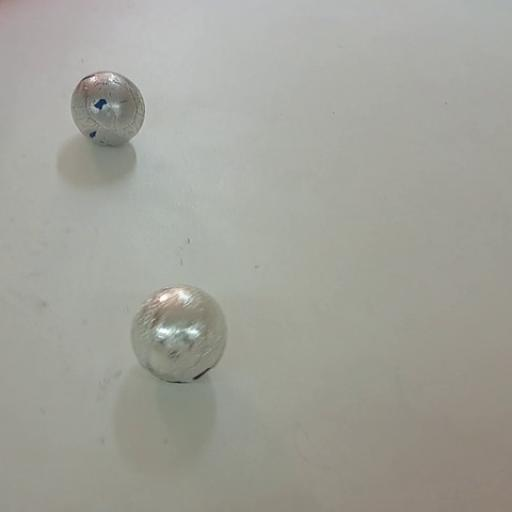alive: (129, 283, 228, 382), (70, 71, 146, 146)
